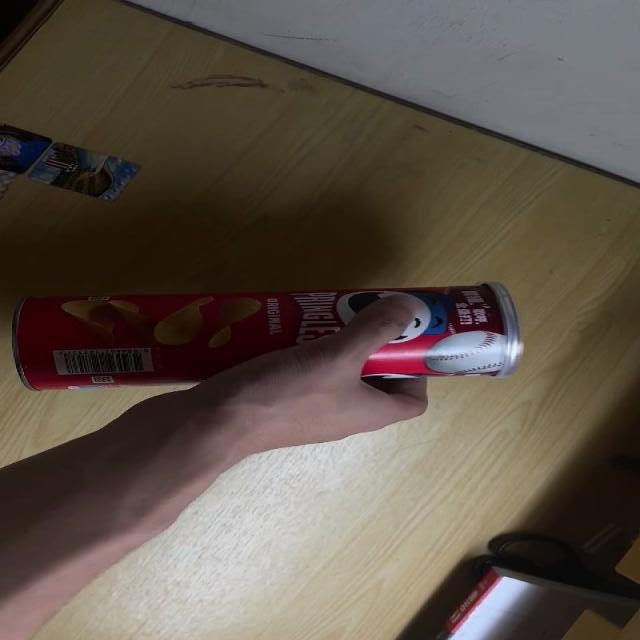Pringles: (15, 283, 524, 393)
